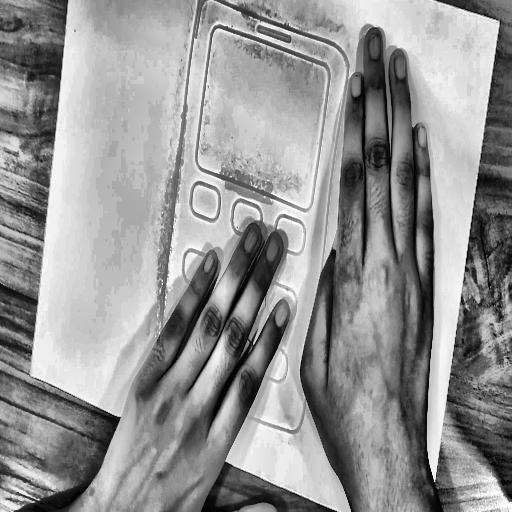bottom_left: (27, 368, 34, 380)
mobile: (144, 0, 364, 452)
top_right: (497, 18, 503, 28)
